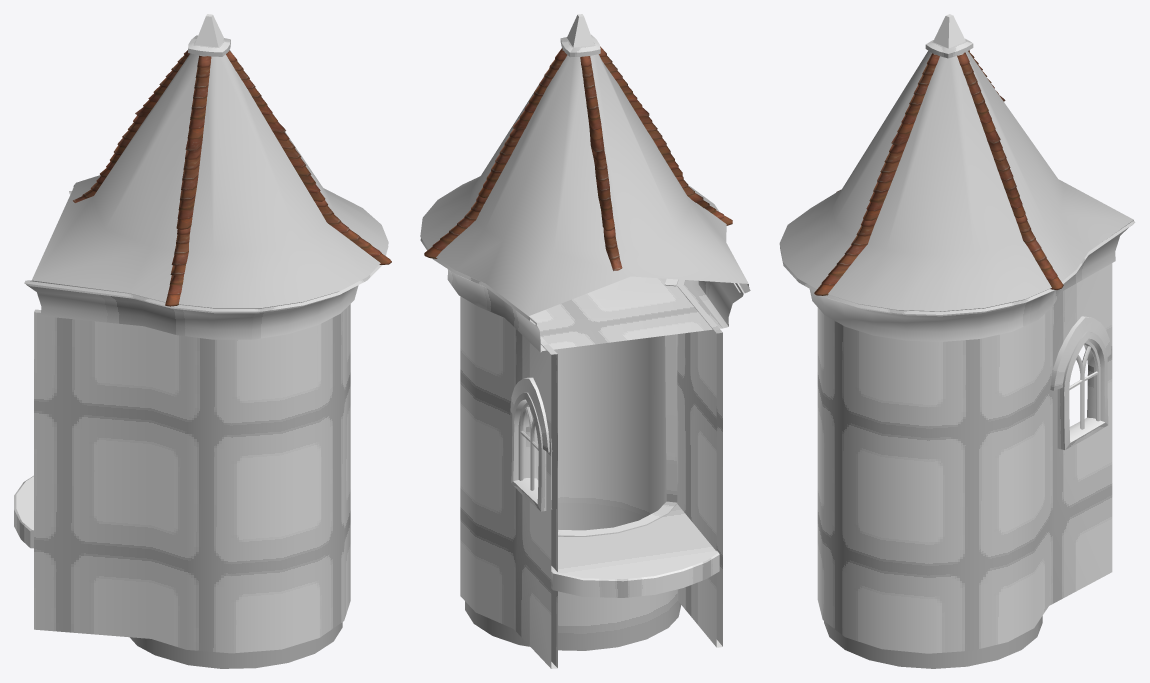
File: SM_AlchemyS_Tower_Stairs.fbx
3 views of the same model, side by side, from view 1: azimuth 30°, elevation 25°; view 2: azimuth 150°, elevation 25°; view 3: azimuth 270°, elevation 25° (orthographic).
Visible parts, largest first — view 1: SM_AlchemyS_Tower_Stairs_LOD0; view 2: SM_AlchemyS_Tower_Stairs_LOD0; view 3: SM_AlchemyS_Tower_Stairs_LOD0.
Part boxes in pixels (<box>): SM_AlchemyS_Tower_Stairs_LOD0: <box>14,14,391,668</box>; SM_AlchemyS_Tower_Stairs_LOD0: <box>420,14,750,668</box>; SM_AlchemyS_Tower_Stairs_LOD0: <box>779,14,1135,668</box>.
Size of what is drawn, in the model's own units: 5.78 by 10.2 by 5.49.
